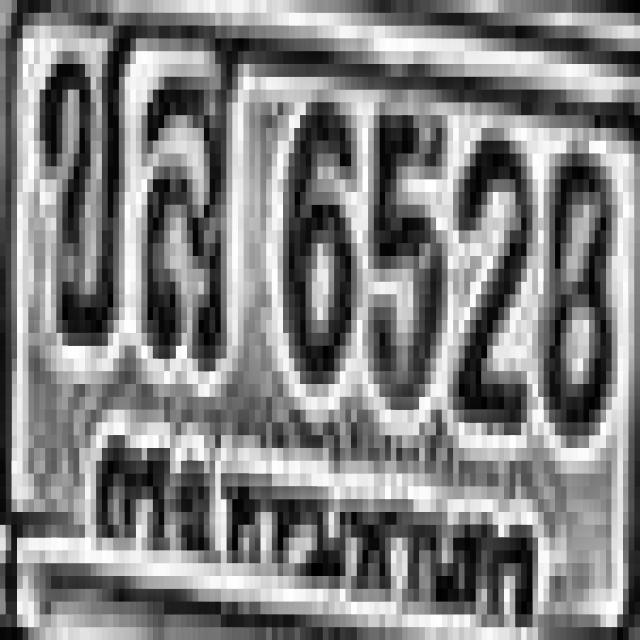license-plate: (7, 1, 640, 640)
